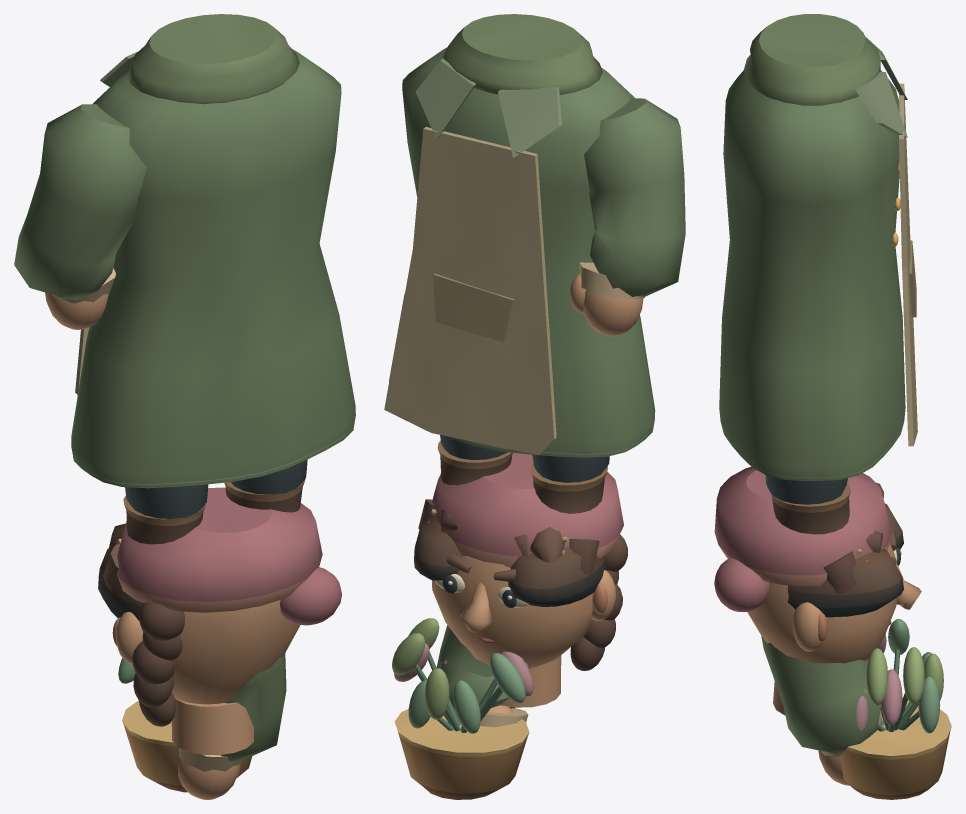
File: herbalist.glb
3 views of the same model, side by side, from view 1: azimuth 30°, elevation 25°; view 2: azimuth 150°, elevation 25°; view 3: azimuth 270°, elevation 25° (orthographic). The views are drawn at different scales.
Parts seen in each view (by area): view 1: Chest, Head, GreetingArm; view 2: Chest, Head, GreetingArm; view 3: Chest, Head, GreetingArm.
Boxes of the visible parts, x1,y1,x2,y2 form: Chest: [14, 14, 355, 620]; Head: [103, 487, 341, 755]; GreetingArm: [118, 653, 286, 799]; Chest: [384, 14, 685, 606]; Head: [418, 452, 627, 707]; GreetingArm: [392, 618, 533, 799]; Chest: [719, 14, 917, 617]; Head: [714, 466, 921, 715]; GreetingArm: [761, 619, 951, 799].
Size of the model in its own units: 0.738 by 1.79 by 0.525.
1 material, 1 textured.
